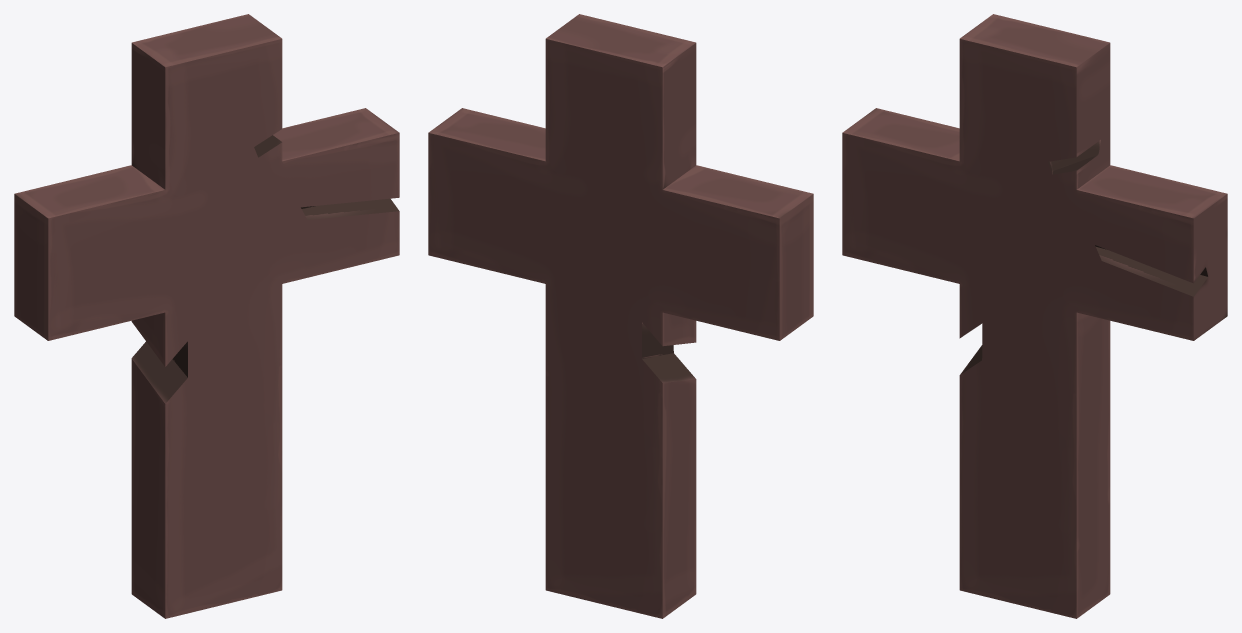
File: cross.fbx
3 renders of one model, left to right at view 1: azimuth 30°, elevation 25°; view 2: azimuth 150°, elevation 25°; view 3: azimuth 330°, elevation 25°, orthographic.
Parts seen in each view (by area): view 1: cross; view 2: cross; view 3: cross.
Part boxes in pixels (x1,y1,x2,y2): cross: (14,14,399,618); cross: (428,14,813,618); cross: (842,14,1227,618).
Bounding box in the file's own units: 1176 × 1765 × 196.
1 material, 1 textured.
